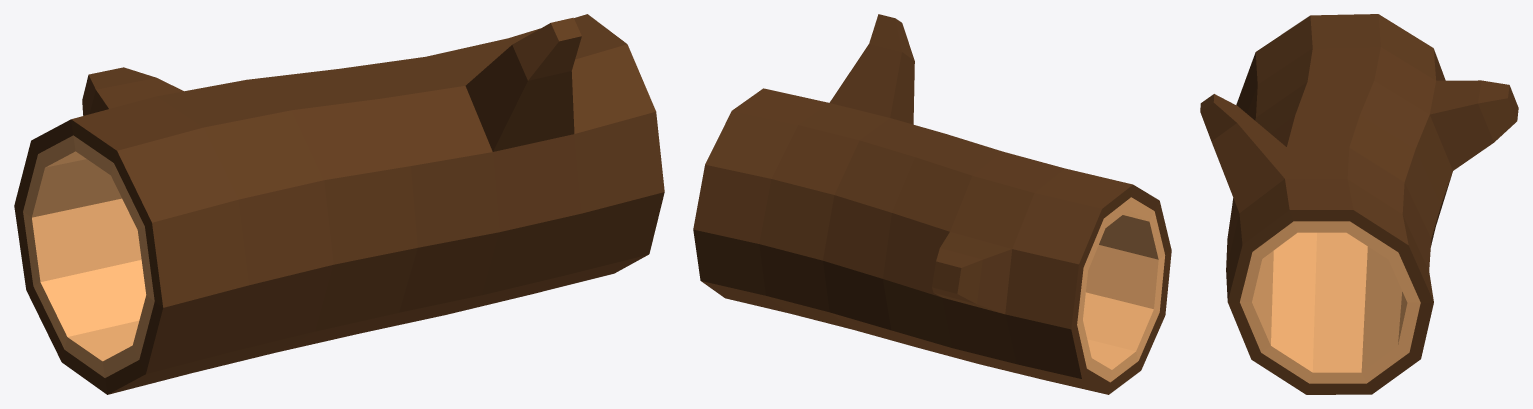
The model's file is Log 1.fbx.
3 views of the same model, side by side, from view 1: azimuth 30°, elevation 25°; view 2: azimuth 150°, elevation 25°; view 3: azimuth 270°, elevation 25° (orthographic). The views are drawn at different scales.
Visible parts, largest first — view 1: Log 1; view 2: Log 1; view 3: Log 1.
Boxes of the visible parts, x1=… form: Log 1: x1=14, y1=14, x2=664, y2=394; Log 1: x1=693, y1=14, x2=1171, y2=394; Log 1: x1=1200, y1=14, x2=1518, y2=394.
Size of the model in its own units: 1.78 by 1.08 by 1.22.
